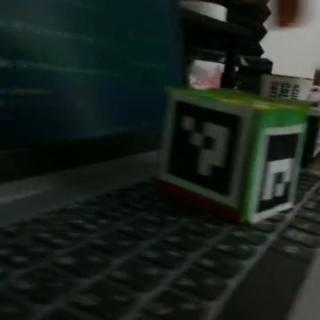armor: (164, 90, 249, 202), (251, 127, 304, 220)
robot: (162, 84, 306, 225)
